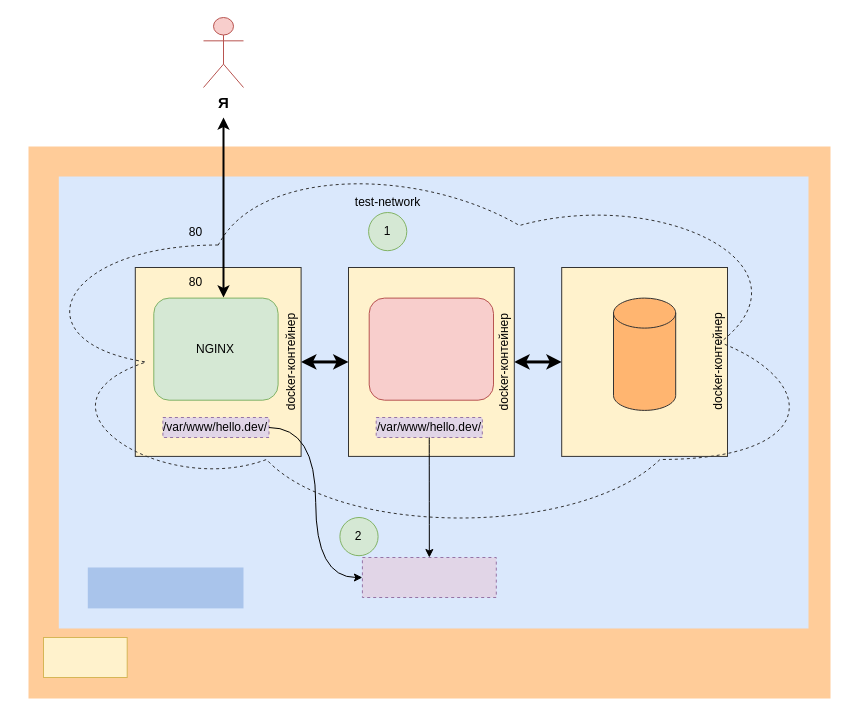
This 850x716 diagram has some shape labels left out. Here are the shapes that lost their labels. From the top down, the box of each, then its label:
(368, 297, 494, 400): PHP-FPM
(612, 297, 676, 410): postgres
(87, 567, 243, 608): Операционная система
(361, 556, 496, 598): /project-path
(42, 636, 127, 678): Сервер
